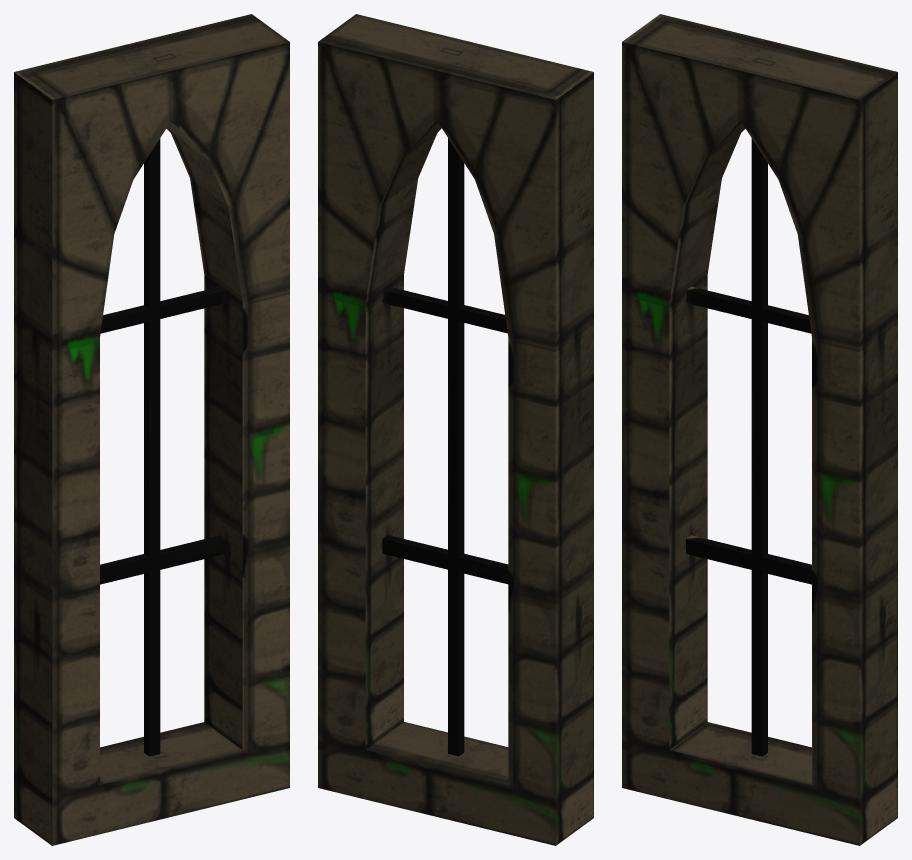
The model's file is lowwindow.FBX.
The picture shows the model from 3 angles, left to right: view 1: azimuth 30°, elevation 25°; view 2: azimuth 150°, elevation 25°; view 3: azimuth 330°, elevation 25°; orthographic projection.
Visible parts, largest first — view 1: Box009; view 2: Box009; view 3: Box009.
Boxes of the visible parts, <box> form: Box009: <box>14,14,289,845</box>; Box009: <box>318,14,593,845</box>; Box009: <box>622,14,897,845</box>.
Size of the model in its own units: 40 by 120 by 11.19.
